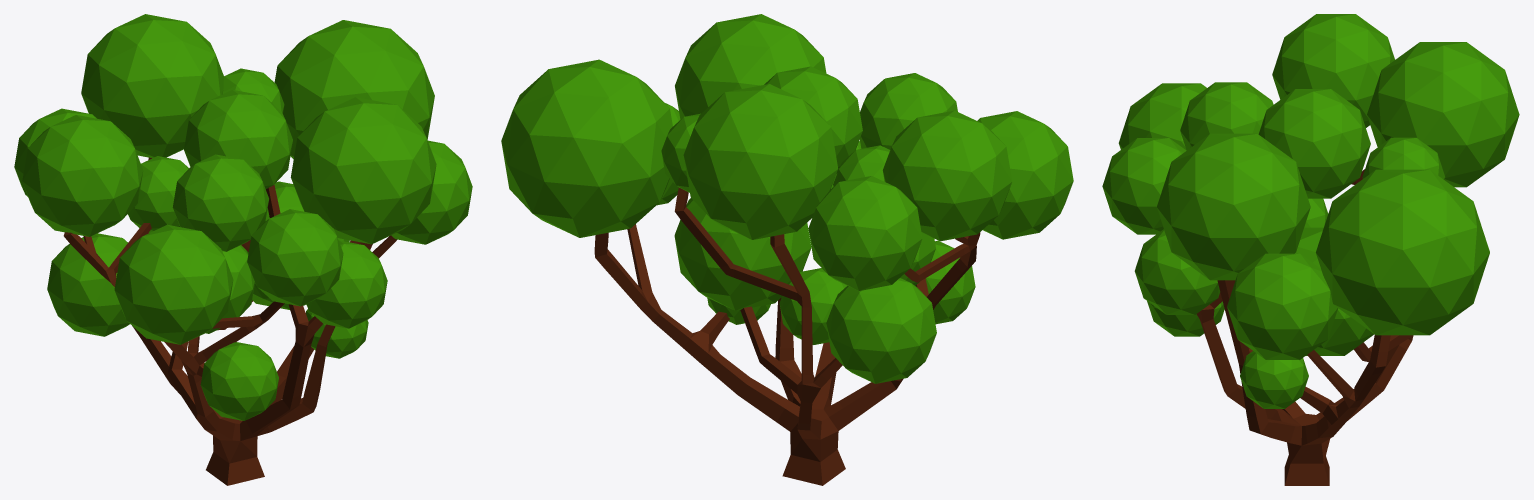
Rendered from asset.glb.
3 views of the same model, side by side, from view 1: azimuth 30°, elevation 25°; view 2: azimuth 150°, elevation 25°; view 3: azimuth 270°, elevation 25° (orthographic). The views are drawn at different scales.
Parts seen in each view (by area): view 1: tree crown, trunk and branches; view 2: tree crown, trunk and branches; view 3: tree crown, trunk and branches.
Boxes of the visible parts, x1,y1,x2,y2 form: tree crown: [14, 14, 472, 420]; trunk and branches: [63, 157, 397, 485]; tree crown: [501, 14, 1073, 383]; trunk and branches: [594, 187, 980, 485]; tree crown: [1102, 14, 1519, 408]; trunk and branches: [1196, 169, 1413, 485].
Bounding box in the file's own units: 14.98 × 13.86 × 12.39.
